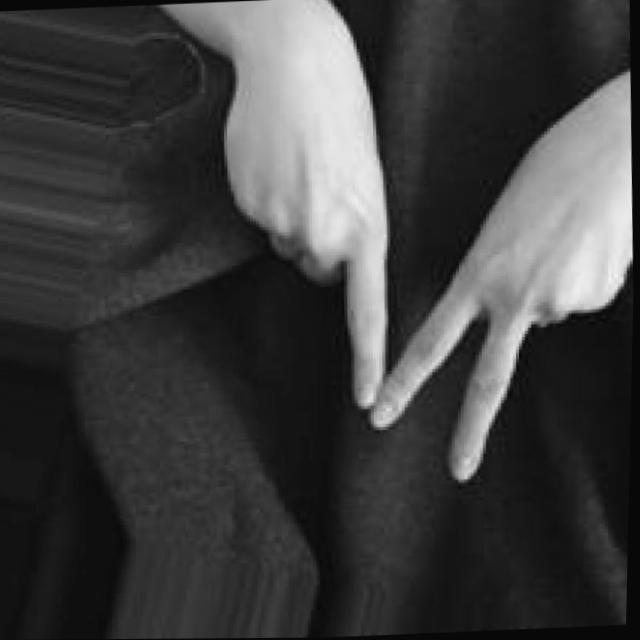N: (210, 36, 639, 501)
